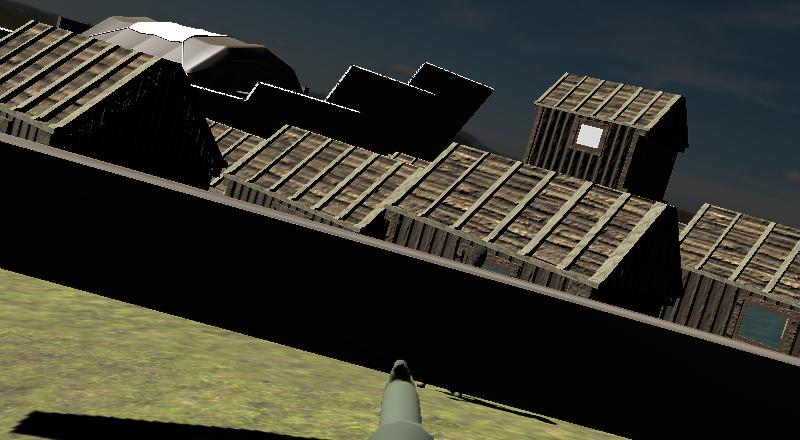House: (670, 199, 800, 435)
